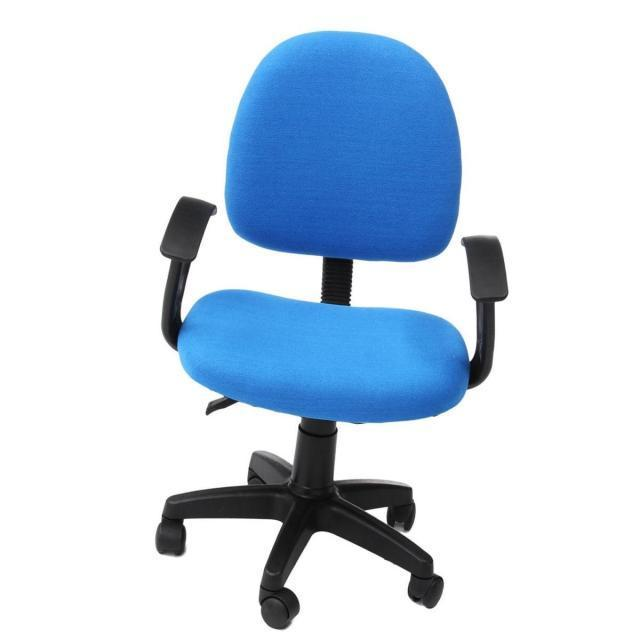chair: (137, 24, 508, 632)
